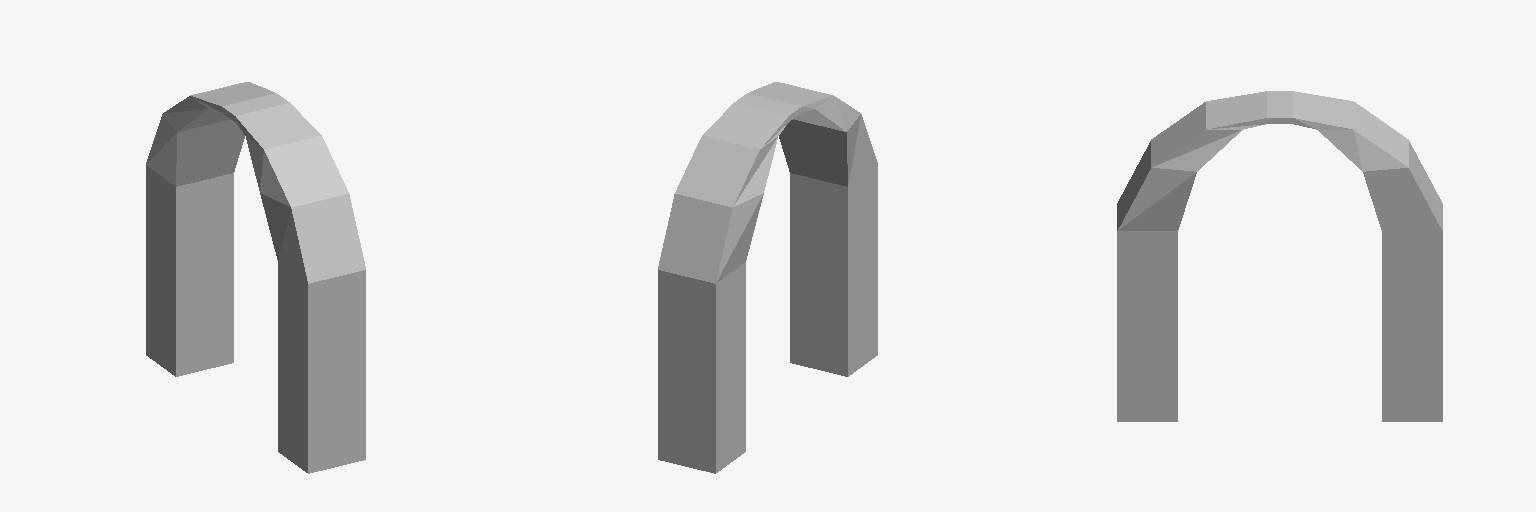
The model's file is Arch.obj.
The picture shows the model from 3 angles: view 1: azimuth 30°, elevation 25°; view 2: azimuth 150°, elevation 25°; view 3: azimuth 270°, elevation 25°; orthographic projection.
Parts seen in each view (by area): view 1: Cube; view 2: Cube; view 3: Cube.
Boxes of the visible parts, x1=… form: Cube: x1=146, y1=82, x2=365, y2=473; Cube: x1=658, y1=82, x2=877, y2=473; Cube: x1=1117, y1=91, x2=1442, y2=421.
Bounding box in the file's own units: 2.06 × 7.96 × 7.75.